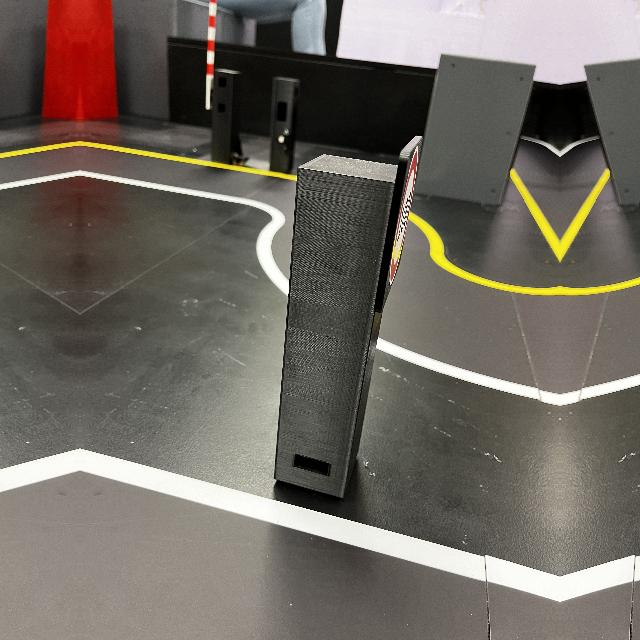obstacle: (270, 138, 430, 508)
